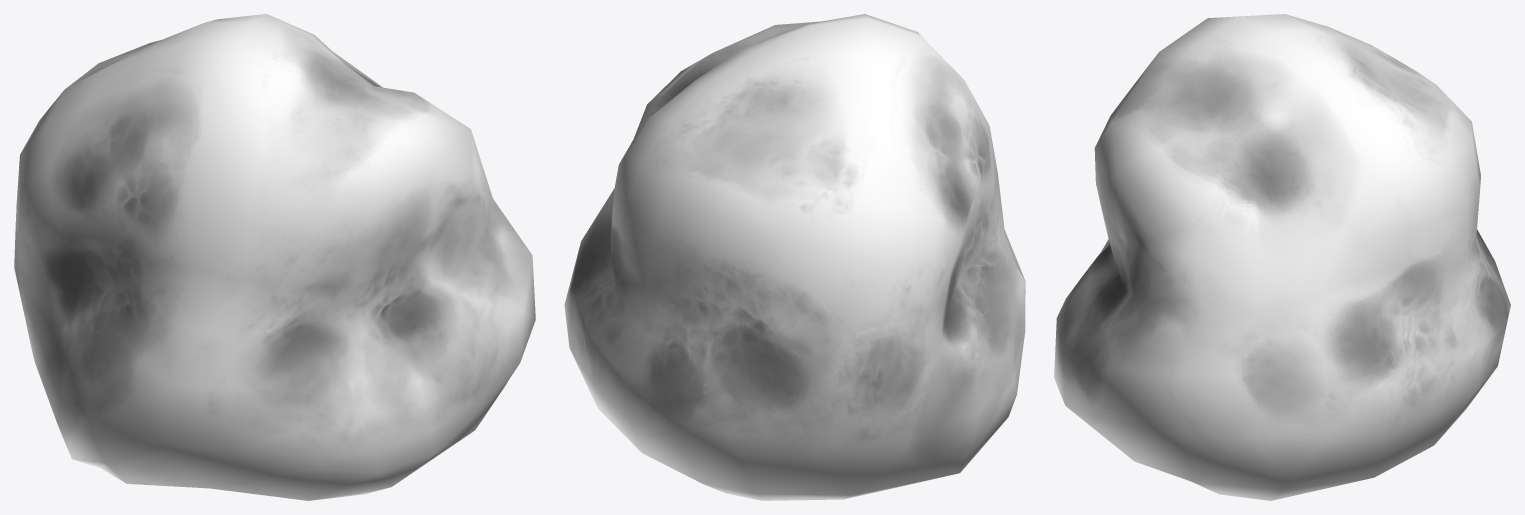
The model's file is 175_a_large_gold_nugget.fbx.
3 renders of one model, left to right at view 1: azimuth 30°, elevation 25°; view 2: azimuth 150°, elevation 25°; view 3: azimuth 270°, elevation 25°, orthographic. The views are drawn at different scales.
Visible parts, largest first — view 1: 175_a_large_gold_nugget_low; view 2: 175_a_large_gold_nugget_low; view 3: 175_a_large_gold_nugget_low.
Boxes of the visible parts, <box> form: 175_a_large_gold_nugget_low: <box>14,14,535,500</box>; 175_a_large_gold_nugget_low: <box>564,14,1025,500</box>; 175_a_large_gold_nugget_low: <box>1054,14,1510,500</box>.
Size of the model in its own units: 10.5 by 9.97 by 10.34.
